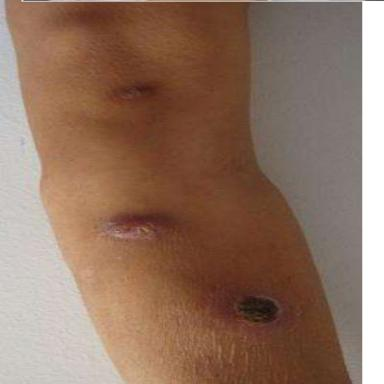Leishmanios: (206, 282, 294, 327), (101, 215, 174, 241), (113, 84, 155, 100)
